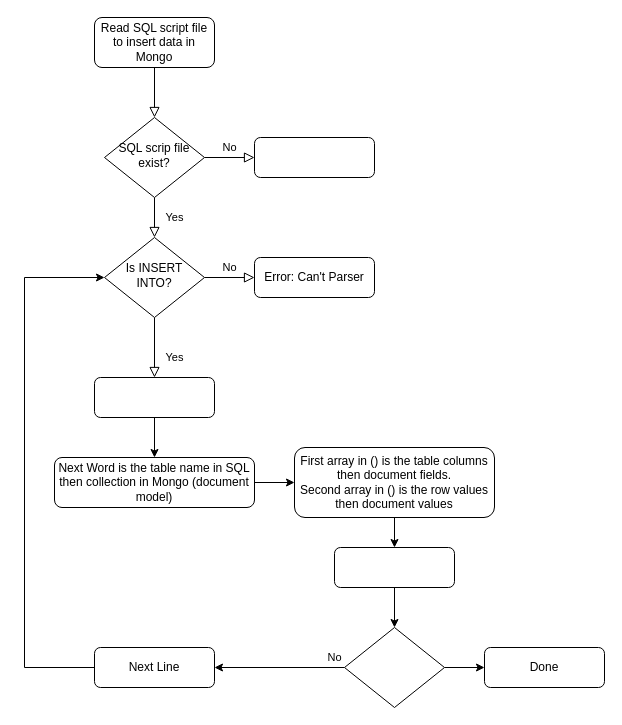
The diagram is 622 pixels wide and 725 high, and some of its shapes have lost their labels. Each missing label, with the centre of its shape:
"End of the file?" goes at [394,667].
"Error: No file" goes at [314,157].
"generate insert_one" goes at [394,567].
"INSERT INTO = db." goes at [154,397].
